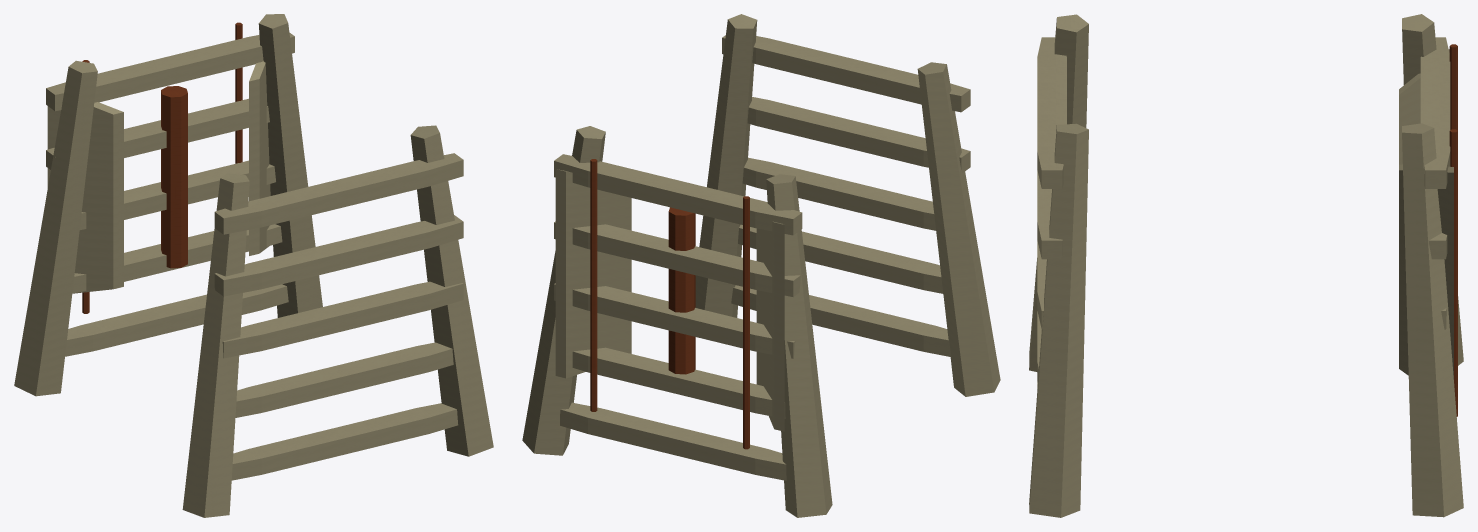
The model's file is crown-ceramic-lightwell-0.glb.
3 views of the same model, side by side, from view 1: azimuth 30°, elevation 25°; view 2: azimuth 150°, elevation 25°; view 3: azimuth 270°, elevation 25° (orthographic). The views are drawn at different scales.
Visible parts, largest first — view 1: crown-ceramic-lightwell_LOD0; view 2: crown-ceramic-lightwell_LOD0; view 3: crown-ceramic-lightwell_LOD0.
Part boxes in pixels (left/top/right/bottom): crown-ceramic-lightwell_LOD0: left=14, top=14, right=493, bottom=517; crown-ceramic-lightwell_LOD0: left=522, top=14, right=1000, bottom=517; crown-ceramic-lightwell_LOD0: left=1029, top=14, right=1463, bottom=517.
Size of the model in its own units: 0.8771 by 0.8831 by 0.9522.
2 materials, 2 textured.
